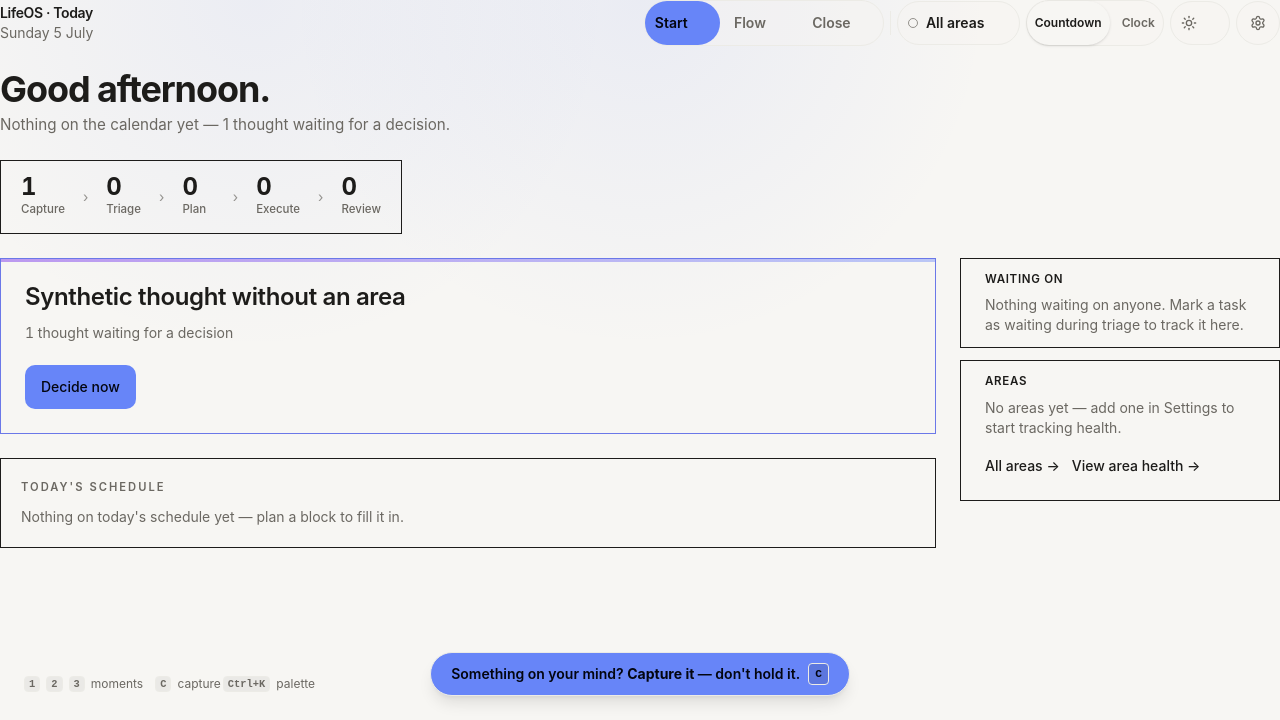
Test: Capture destination and return path › opens an unassigned waiting thought from Capture when no areas exist
Expected: the text with test id "pipeline-overview-count-capture" reads "1", [21,172,36,201]
What coordinates should you click on to do the following:
click the button with test id "pipeline-overview-stage-capture"
I would click on:
 (43, 197)
Its box is [5,165,81,229].
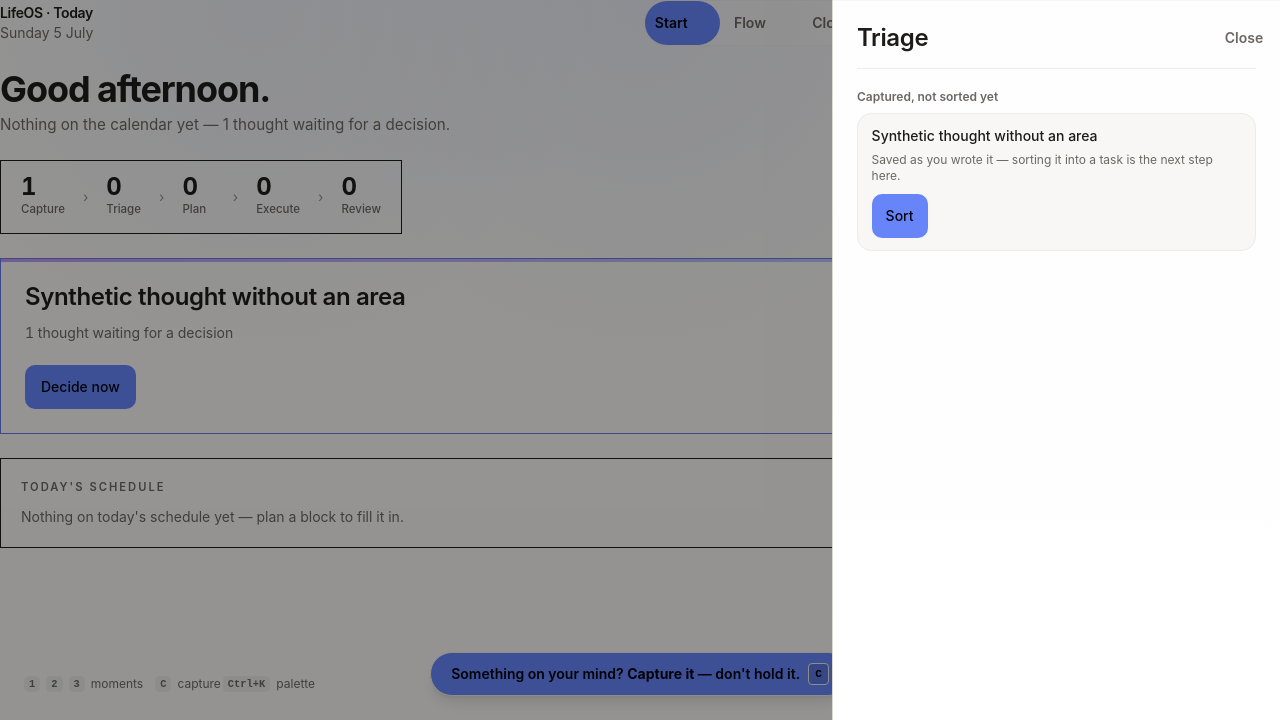
Expected: the dialog "Triage" is shown, [832,0,1279,719]
Expected: the element with test id "triage-sheet-captures" shows "Synthetic thought without an area", [872,127,1098,144]
